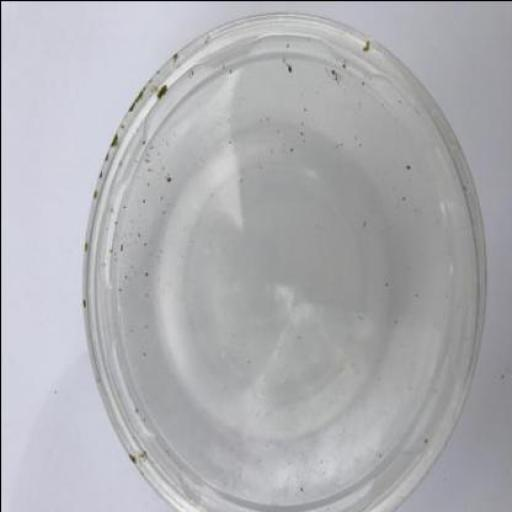plastic: (81, 12, 486, 511)
